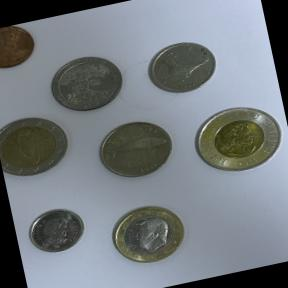coin: (181, 89, 288, 188), (97, 194, 196, 274), (86, 110, 183, 191), (42, 44, 130, 120), (0, 106, 78, 185), (20, 198, 93, 262), (0, 19, 48, 81)
